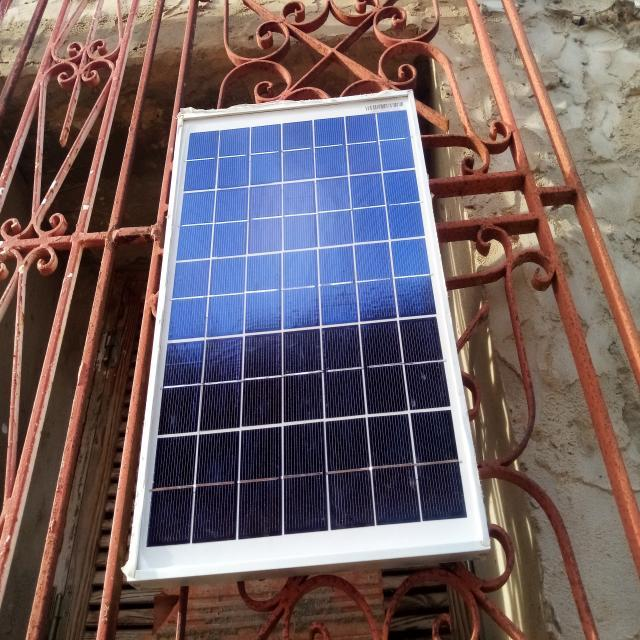no faulty: (132, 90, 489, 578)
